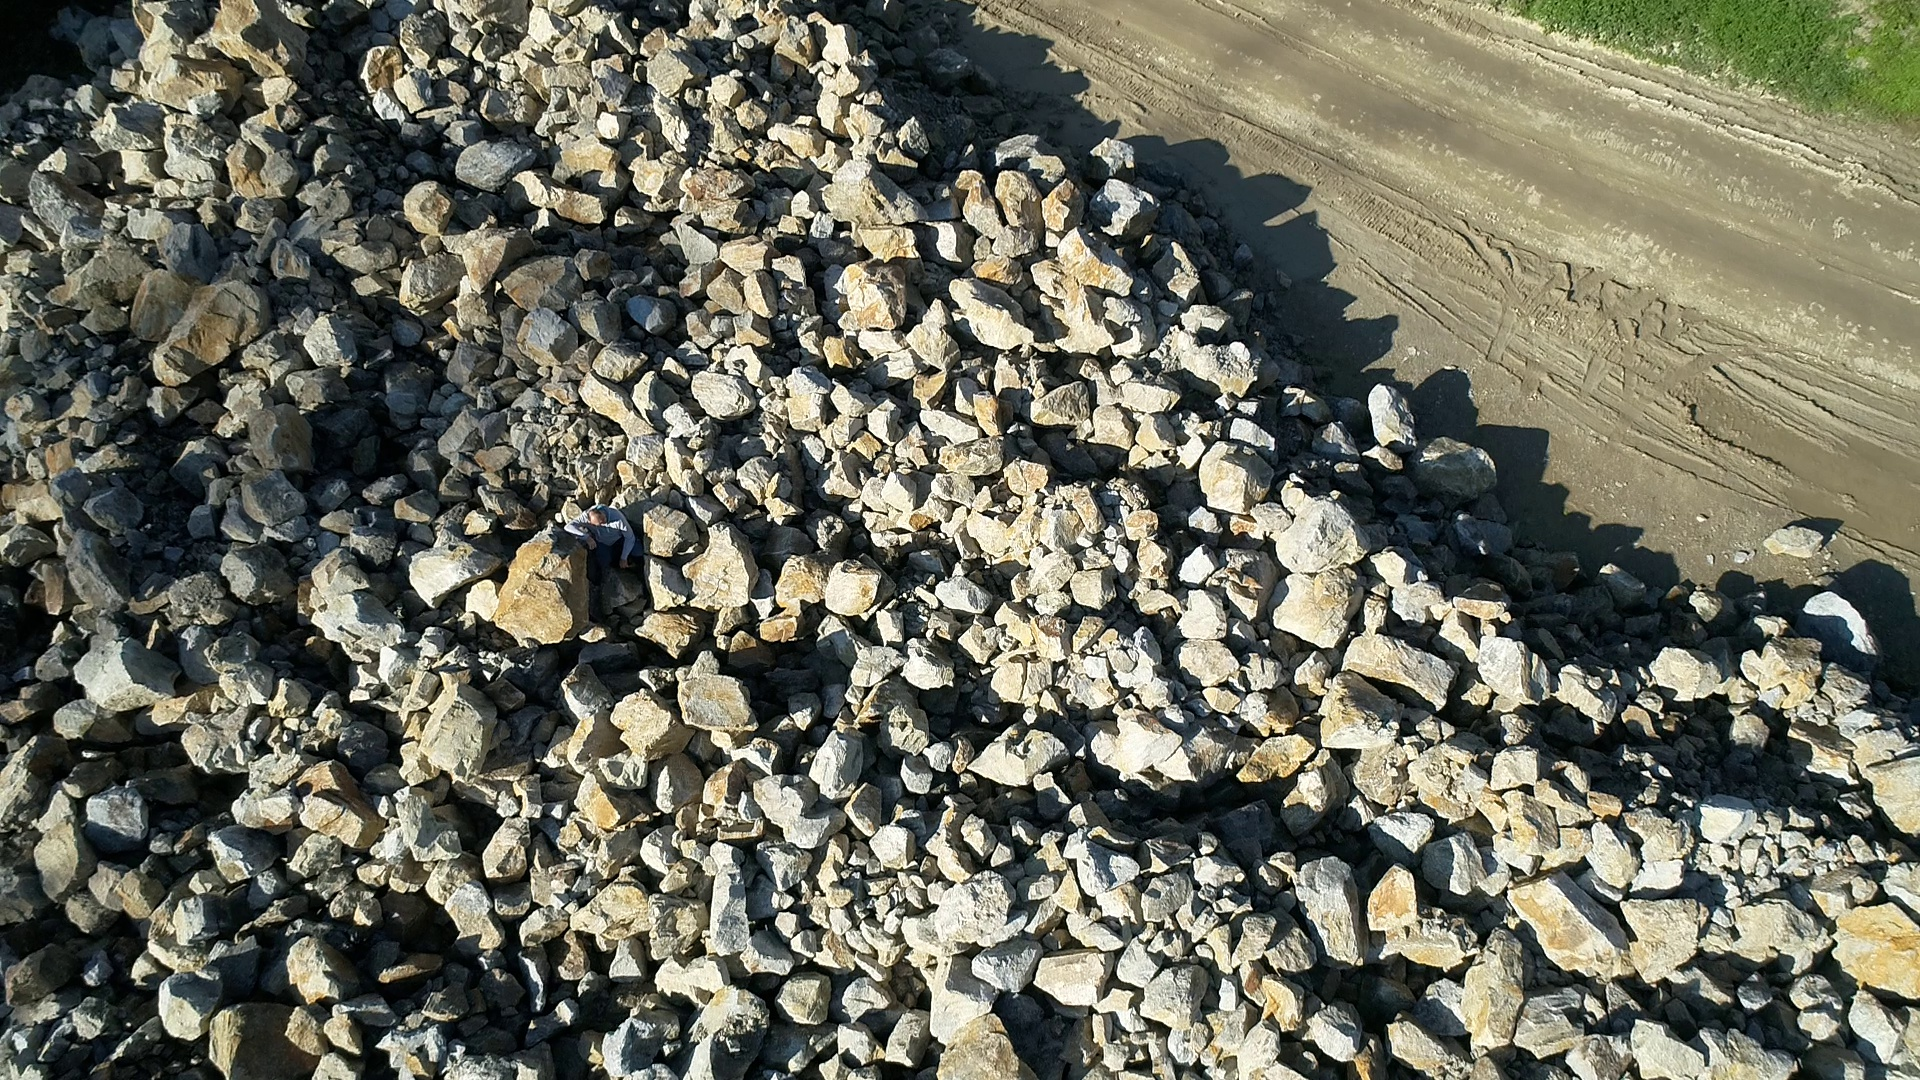person: (569, 504, 635, 568)
